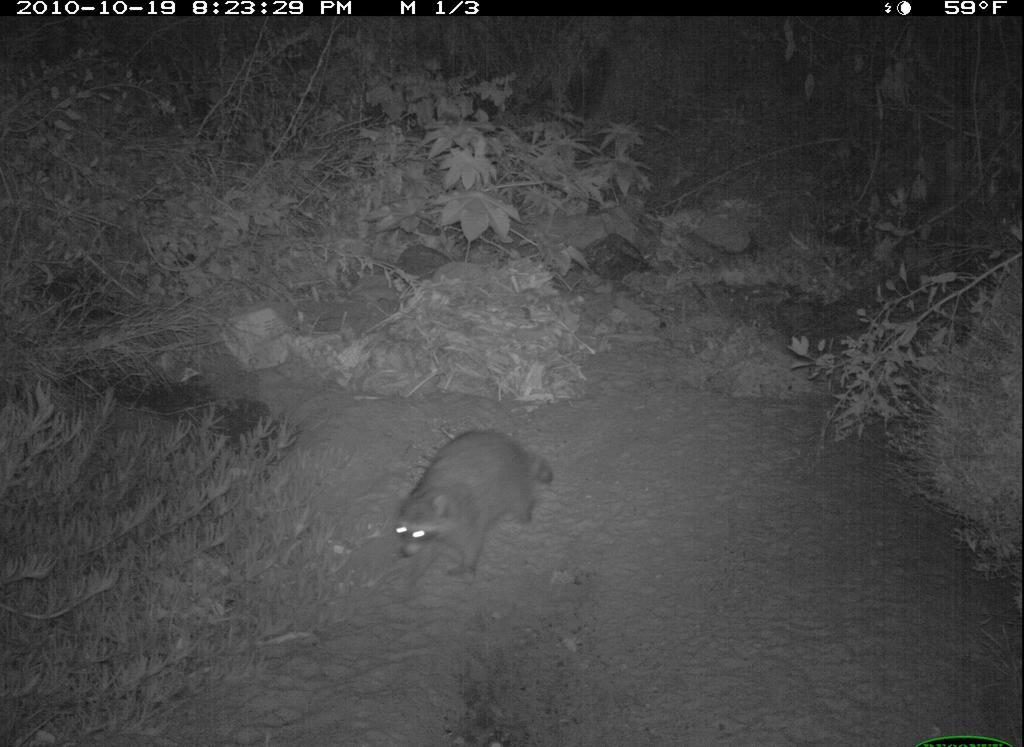raccoon: (385, 428, 560, 583)
